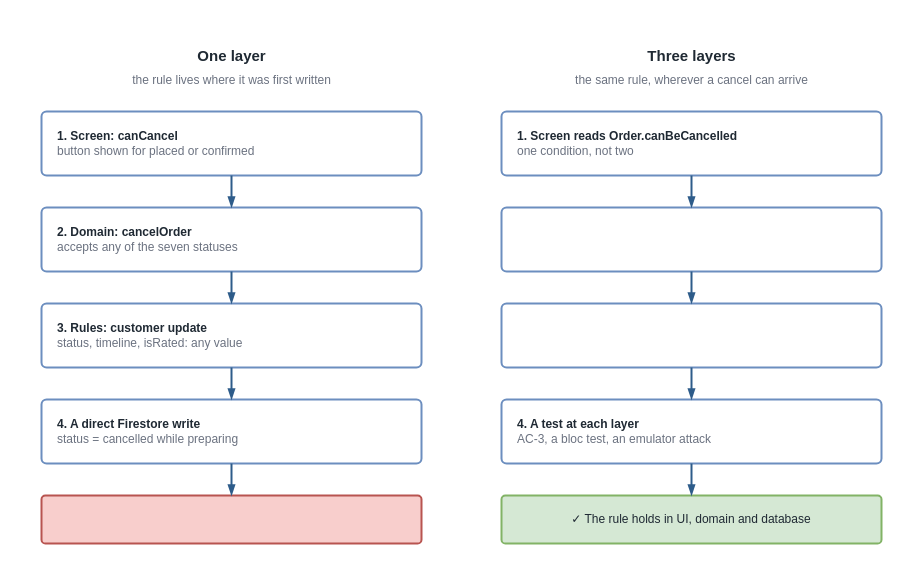
The diagram is 922 pixels wide and 584 high, and some of its shapes have lost their labels. The shapes that lost their labels are listed below. From the top down, each one's centre as x and y in pixels, then its label:
At (x=691, y=239): "2. cancelOrder returns a failure when canBeCancelled is false".
At (x=691, y=335): "3. Rules check the transition to cancelled, only from placed or confirmed".
At (x=231, y=519): "✗ Bypassable at two of three layers".
